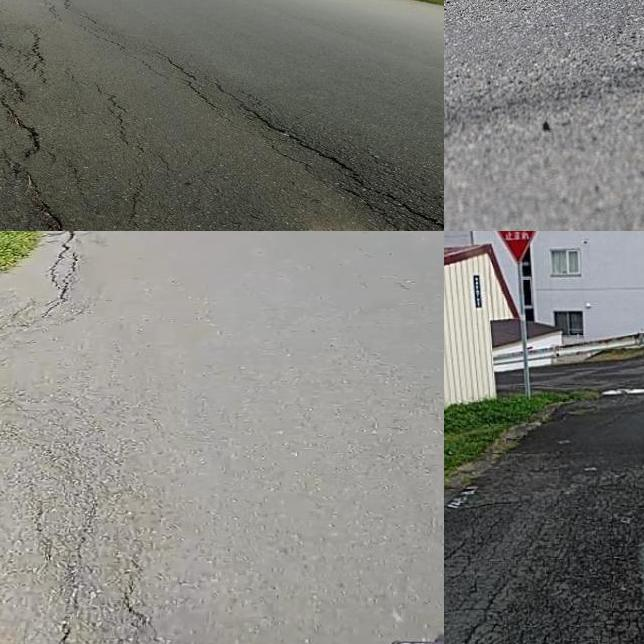Memanjang: (117, 18, 444, 231), (0, 7, 85, 231)
Pinggir: (0, 231, 103, 358)
